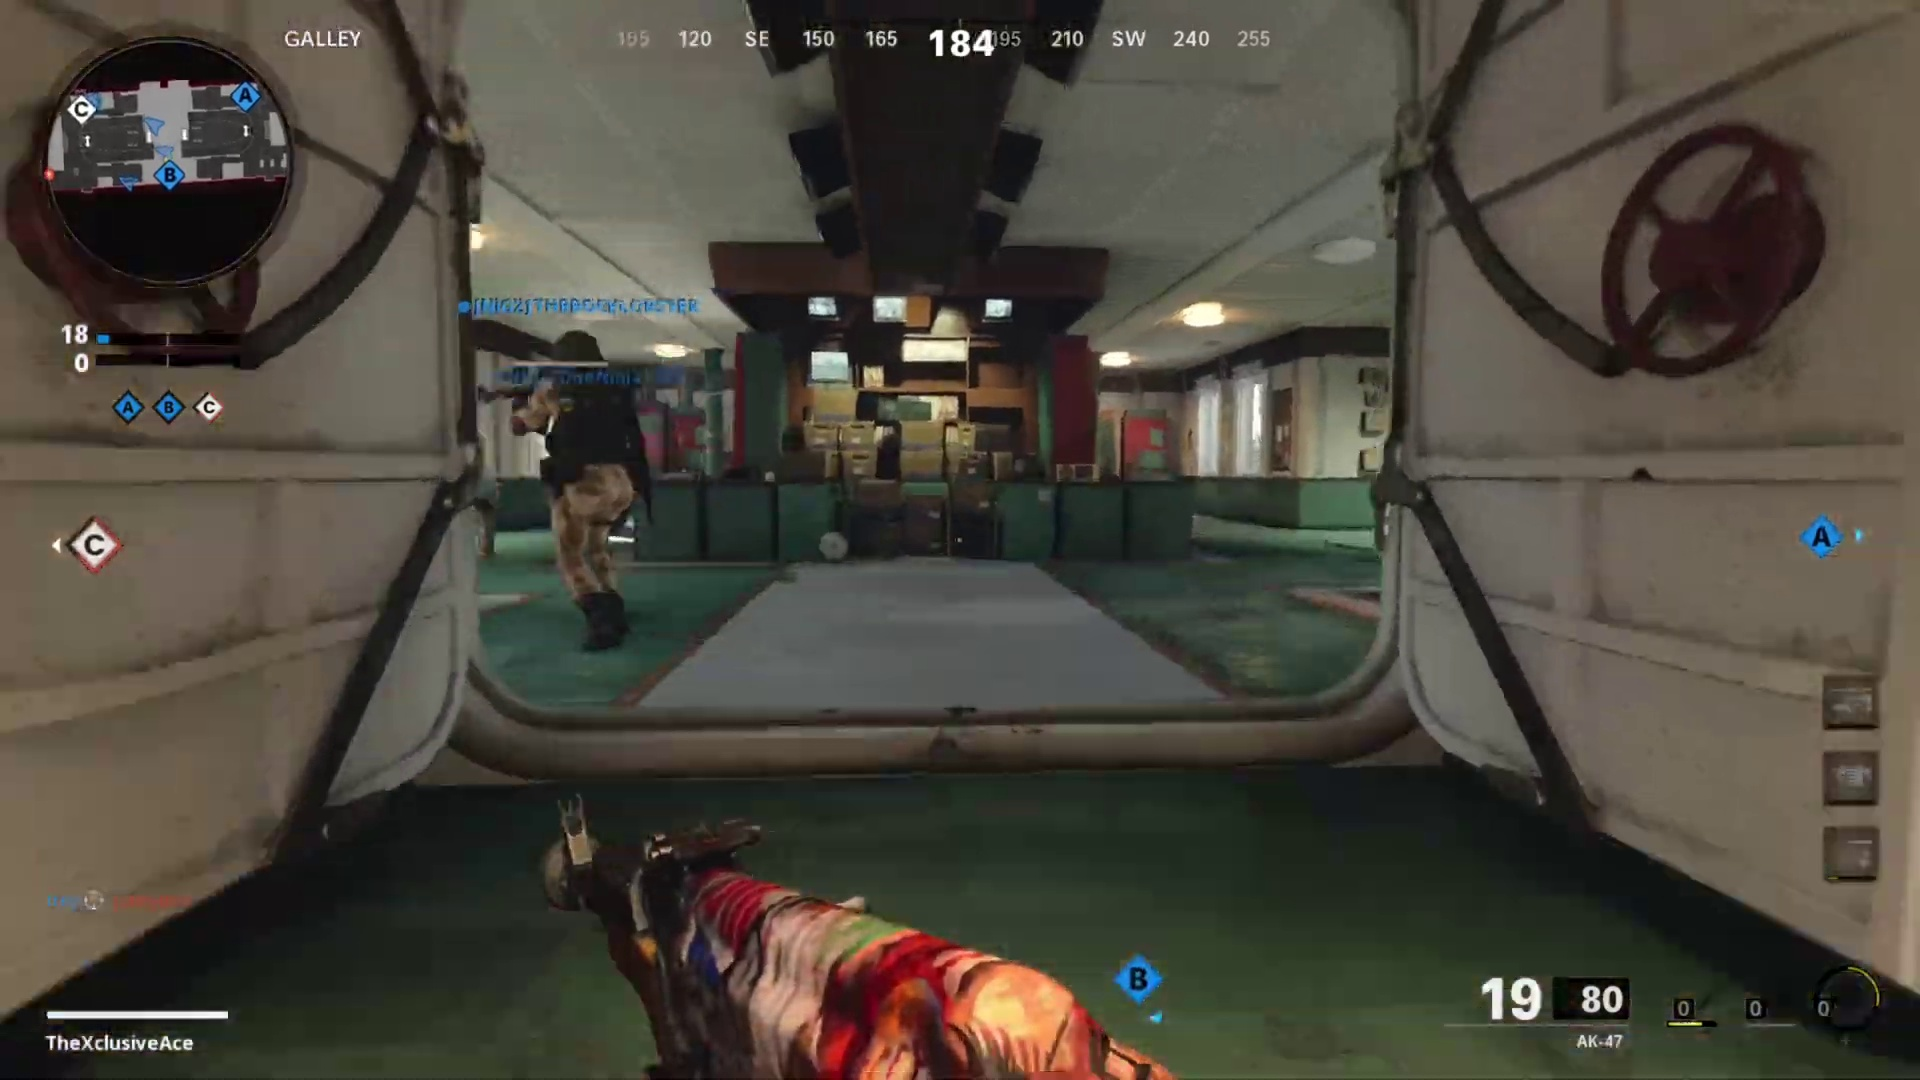head: (539, 325, 614, 390)
person: (508, 333, 650, 650)
